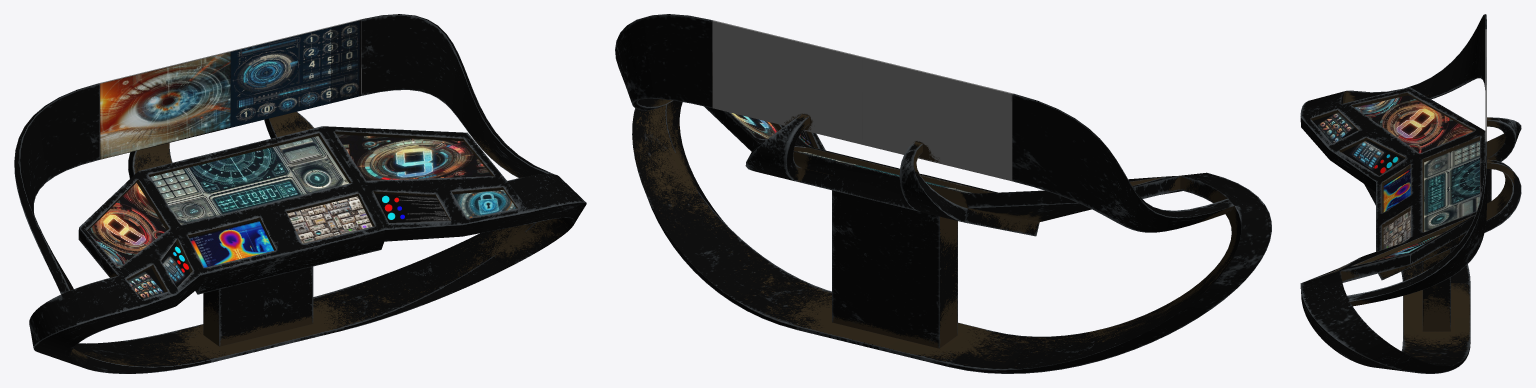
Rendered from terminal_computer___imaginary_spatial_digital.glb.
3 renders of one model, left to right at view 1: azimuth 30°, elevation 25°; view 2: azimuth 150°, elevation 25°; view 3: azimuth 270°, elevation 25°, orthographic. The views are drawn at different scales.
Visible parts, largest first — view 1: Object_2, Object_3; view 2: Object_2, Object_3; view 3: Object_2, Object_3.
Part boxes in pixels (left/top/right/bottom): Object_2: left=14, top=14, right=586, bottom=373; Object_3: left=88, top=20, right=516, bottom=299; Object_2: left=615, top=14, right=1271, bottom=373; Object_3: left=731, top=113, right=971, bottom=192; Object_2: left=1300, top=14, right=1521, bottom=373; Object_3: left=1313, top=95, right=1479, bottom=260.
Bounding box in the file's own units: 791 × 364 × 319.
2 materials, 2 textured.
